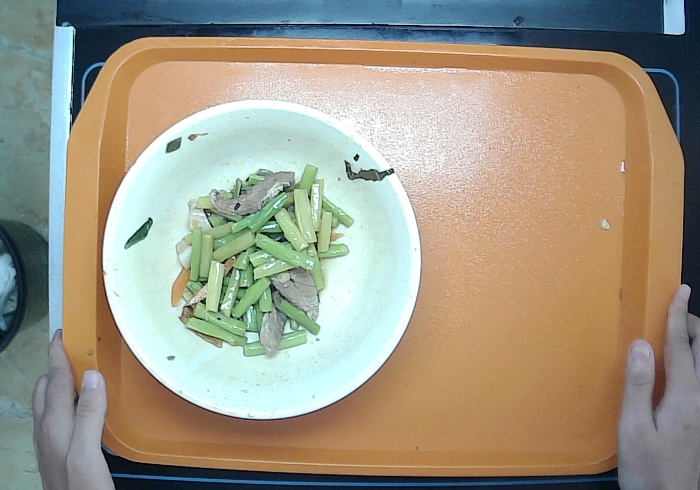ZNLD-Da_Tang_Wan: (99, 97, 424, 421)
